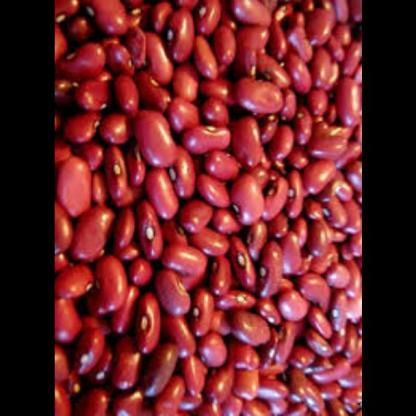fasol: (55, 0, 362, 416)
